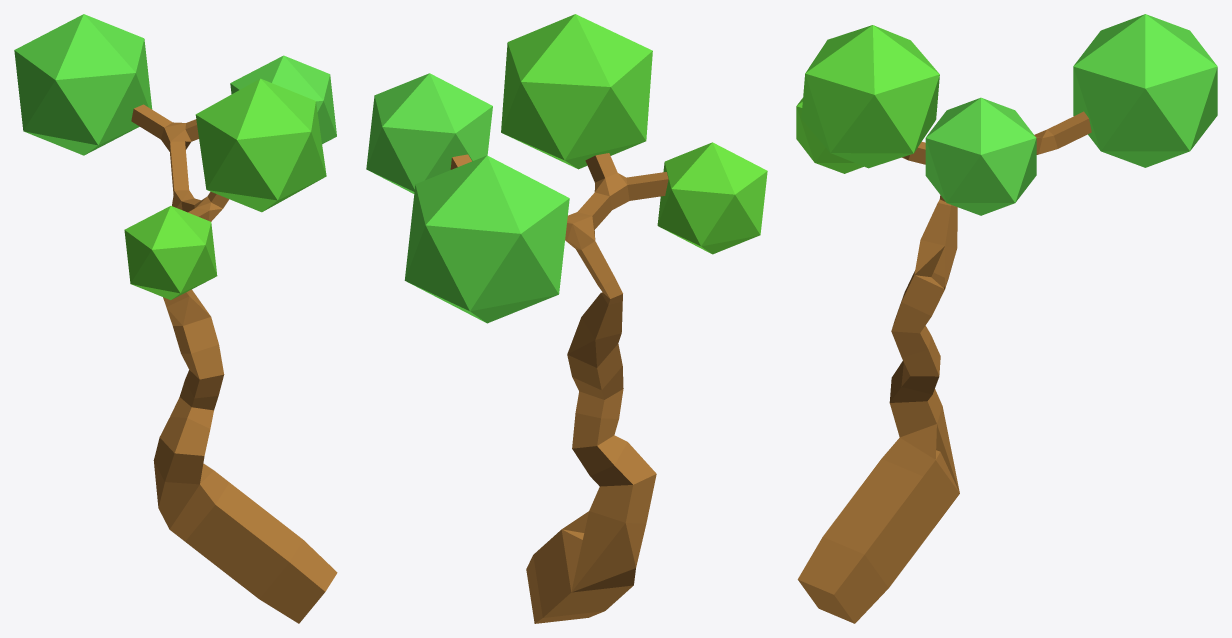
Rendered from Tree.glb.
The picture shows the model from 3 angles, left to right: view 1: azimuth 30°, elevation 25°; view 2: azimuth 150°, elevation 25°; view 3: azimuth 270°, elevation 25°; orthographic projection. The views are drawn at different scales.
Parts seen in each view (by area): view 1: Cube.007; view 2: Cube.007; view 3: Cube.007.
Boxes of the visible parts, <box> form: Cube.007: <box>14,14,337,623</box>; Cube.007: <box>366,14,767,623</box>; Cube.007: <box>796,14,1217,623</box>.
Bounding box in the file's own units: 3.2 × 6.17 × 4.09.
